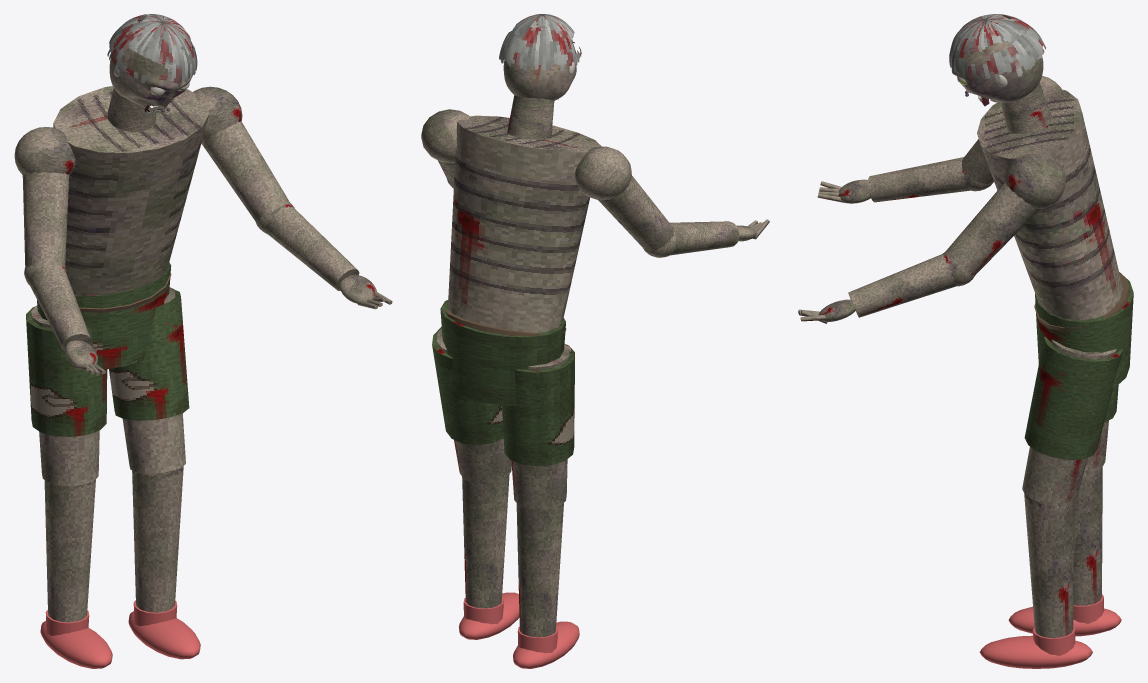
Rendered from Zombie_065.glb.
3 views of the same model, side by side, from view 1: azimuth 30°, elevation 25°; view 2: azimuth 150°, elevation 25°; view 3: azimuth 270°, elevation 25° (orthographic). The views are drawn at different scales.
Parts seen in each view (by area): view 1: Zombie_065, object 43, object 10, object 3, object 16, object 11, object 4; view 2: Zombie_065, object 43, object 16, object 3; view 3: Zombie_065, object 43, object 10, object 3, object 16, object 4, object 11, object 42.
Part boxes in pixels (left/top/right/bottom): Zombie_065: left=14, top=86, right=290, bottom=668; object 43: left=107, top=14, right=197, bottom=86; object 10: left=265, top=206, right=359, bottom=290; object 3: left=28, top=265, right=91, bottom=351; object 16: left=109, top=48, right=191, bottom=108; object 11: left=339, top=274, right=376, bottom=303; object 4: left=65, top=340, right=97, bottom=365; Zombie_065: left=421, top=95, right=674, bottom=668; object 43: left=499, top=14, right=581, bottom=68; object 16: left=503, top=26, right=576, bottom=100; object 3: left=670, top=221, right=739, bottom=255; Zombie_065: left=945, top=75, right=1133, bottom=668; object 43: left=949, top=14, right=1045, bottom=80; object 10: left=848, top=254, right=956, bottom=317; object 3: left=867, top=157, right=971, bottom=202; object 16: left=951, top=41, right=1043, bottom=102; object 4: left=838, top=179, right=870, bottom=203; object 11: left=818, top=299, right=855, bottom=321; object 42: left=961, top=19, right=1044, bottom=82.
Bounding box in the file's own units: 0.8037 × 1.7 × 0.8108.
Materials: 16 (6 with a texture image).
